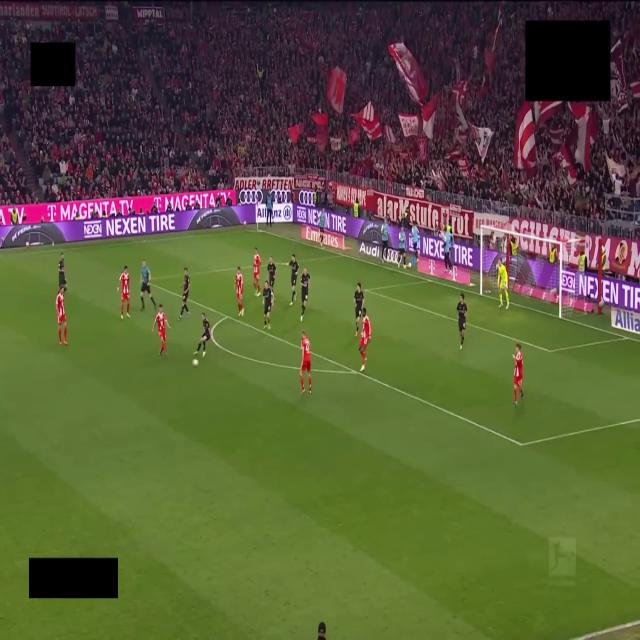ball: (192, 359, 199, 367)
player: (152, 304, 169, 355), (359, 308, 371, 372), (194, 312, 210, 358), (300, 331, 311, 393), (56, 285, 67, 345), (118, 265, 130, 319), (513, 344, 523, 406), (179, 267, 190, 319), (457, 294, 467, 350), (354, 283, 364, 336), (288, 255, 298, 305), (498, 259, 508, 309), (262, 281, 272, 329), (301, 268, 309, 321), (235, 267, 243, 316), (253, 248, 261, 296), (267, 256, 276, 290), (58, 254, 66, 291)
referee: (141, 260, 156, 310)
